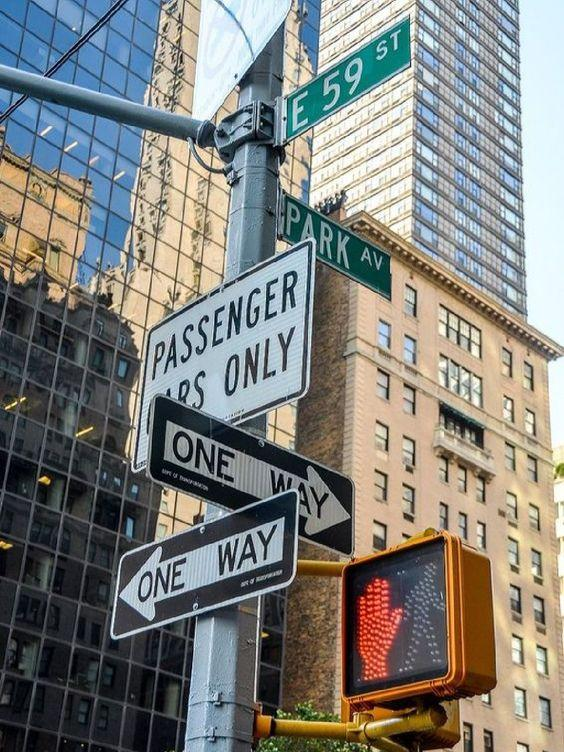red: (332, 538, 514, 706)
